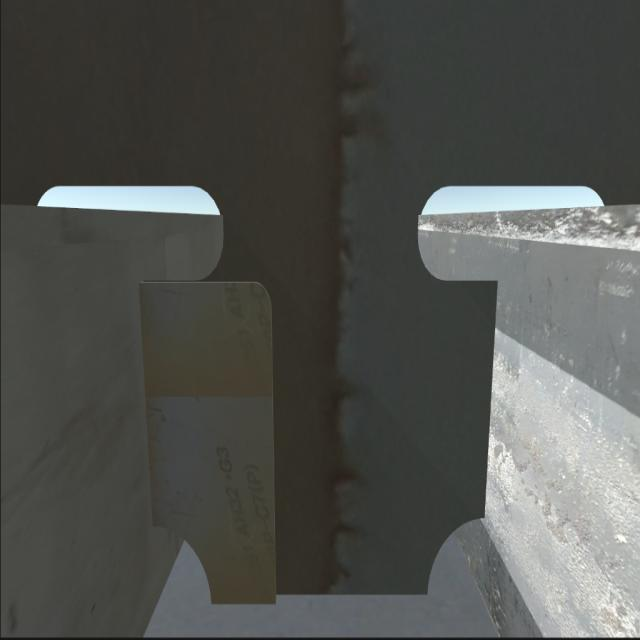fillet_hole: (152, 516, 216, 604), (427, 506, 488, 596)
fillet_yong_jeop_jang: (200, 582, 440, 608)
longi_yong_jeop_jang: (474, 279, 513, 517), (130, 275, 161, 529)
plate_CP05: (140, 283, 282, 605)
